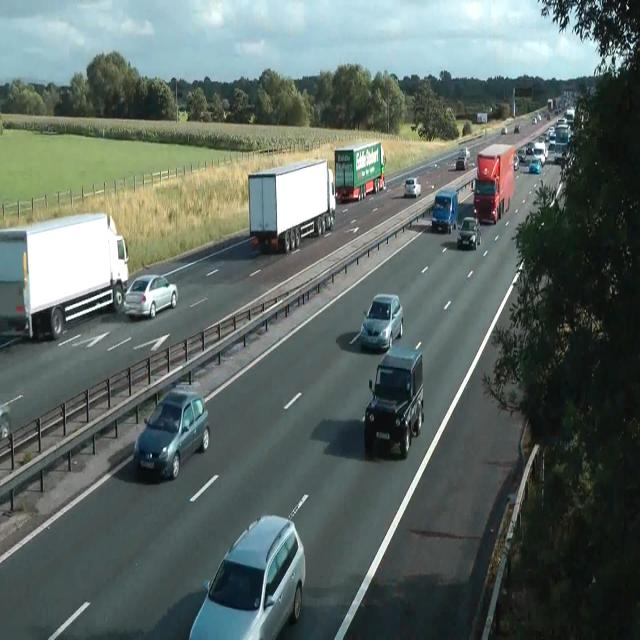bus: (360, 293, 403, 351), (124, 274, 178, 319), (0, 394, 23, 444), (457, 216, 481, 250), (0, 404, 12, 442), (403, 177, 421, 198), (455, 157, 467, 170), (378, 173, 386, 190), (458, 147, 470, 158), (513, 153, 519, 171), (501, 126, 507, 134), (514, 124, 520, 132), (532, 116, 536, 125), (537, 113, 541, 121), (546, 112, 550, 120)
jeep: (188, 513, 306, 638), (133, 385, 210, 480), (364, 345, 424, 458), (456, 146, 470, 170), (529, 156, 541, 173)
minibus: (0, 212, 129, 342), (248, 158, 336, 255), (472, 142, 516, 224), (334, 140, 386, 202), (431, 188, 458, 234), (554, 122, 570, 164), (477, 112, 488, 124)
